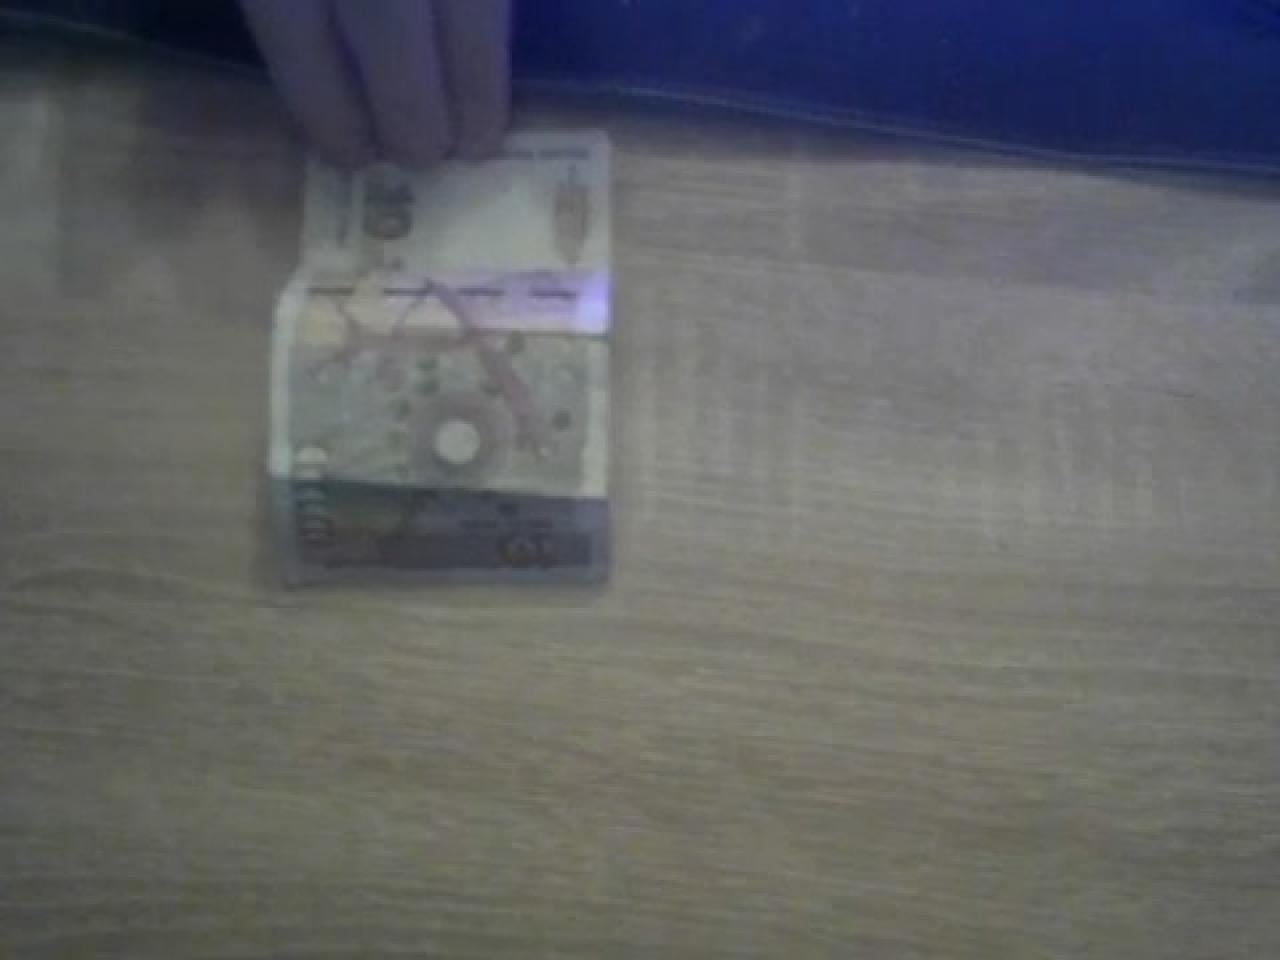10leva: (261, 131, 619, 587)
